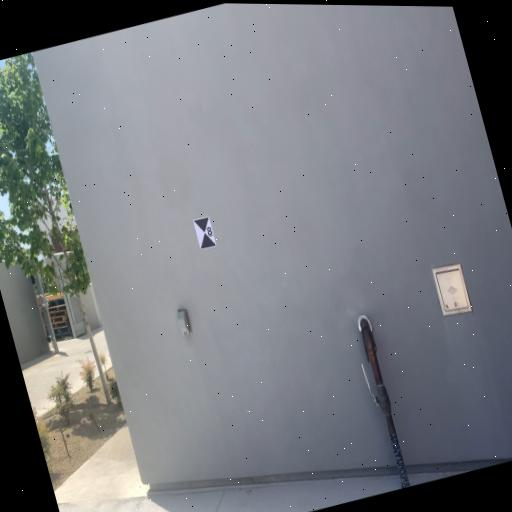target8: (194, 216, 217, 249)
